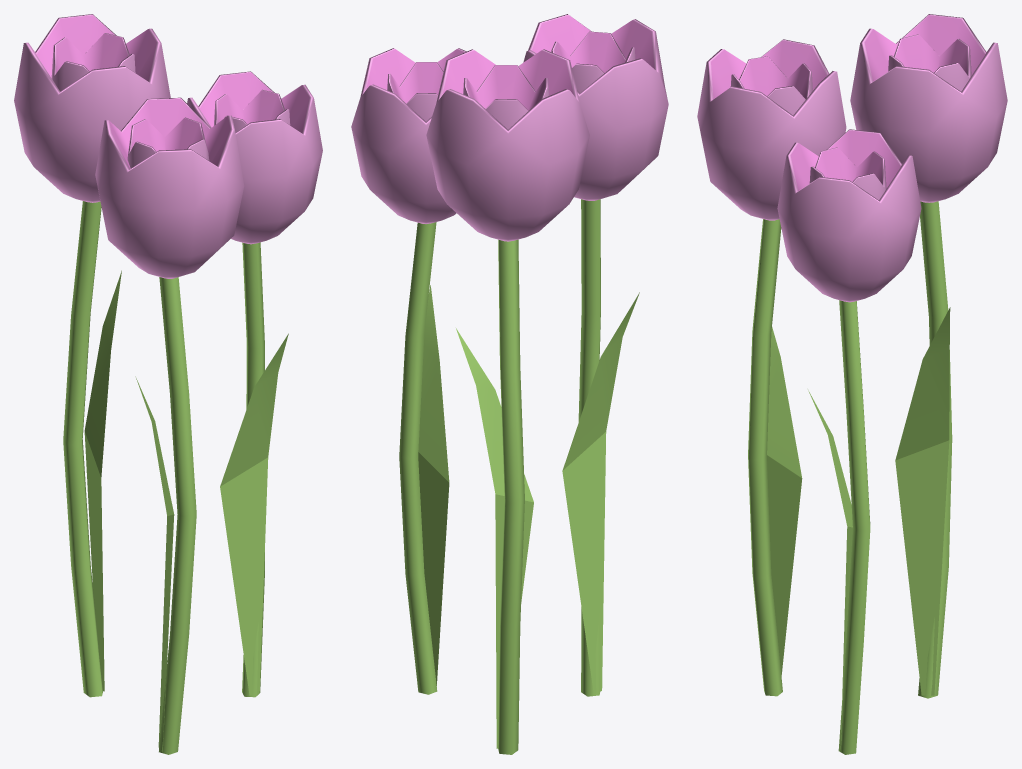
File: flower02_pink.fbx
3 renders of one model, left to right at view 1: azimuth 30°, elevation 25°; view 2: azimuth 150°, elevation 25°; view 3: azimuth 270°, elevation 25°, orthographic. The views are drawn at different scales.
Visible parts, largest first — view 1: flowers02_pink; view 2: flowers02_pink; view 3: flowers02_pink.
Part boxes in pixels (<box>): flowers02_pink: <box>14,14,322,754</box>; flowers02_pink: <box>351,14,668,754</box>; flowers02_pink: <box>697,14,1007,754</box>.
Size of the model in its own units: 0.2327 by 0.5809 by 0.251.
